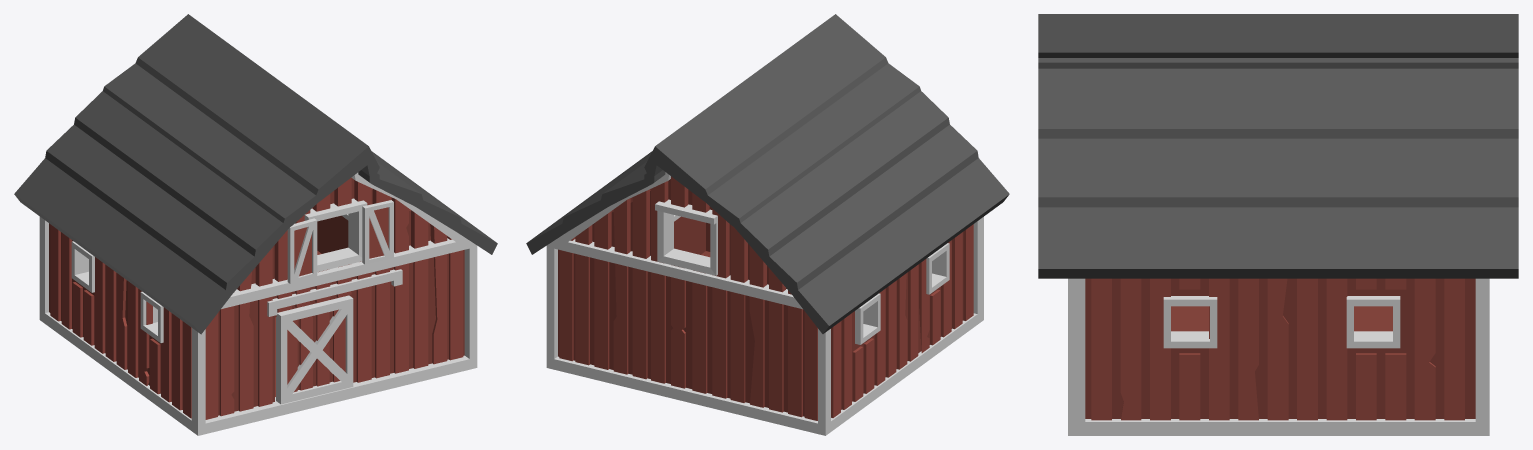
File: smallbarn.glb
3 views of the same model, side by side, from view 1: azimuth 30°, elevation 25°; view 2: azimuth 150°, elevation 25°; view 3: azimuth 270°, elevation 25° (orthographic). The views are drawn at different scales.
Visible parts, largest first — view 1: Small_Barn, Small_Barn_Door, SmallBarn_Window, SmallBarn_Window2; view 2: Small_Barn; view 3: Small_Barn.
Part boxes in pixels (box(x1,y1,x2,y2)): Small_Barn: box(14, 14, 497, 435); Small_Barn_Door: box(276, 295, 353, 404); SmallBarn_Window: box(362, 200, 393, 264); SmallBarn_Window2: box(287, 218, 317, 283); Small_Barn: box(526, 14, 1009, 435); Small_Barn: box(1038, 14, 1518, 435).
Bounding box in the file's own units: 6.08 × 4.96 × 6.27.
